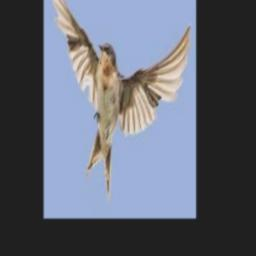Swallow: (50, 0, 192, 204)
